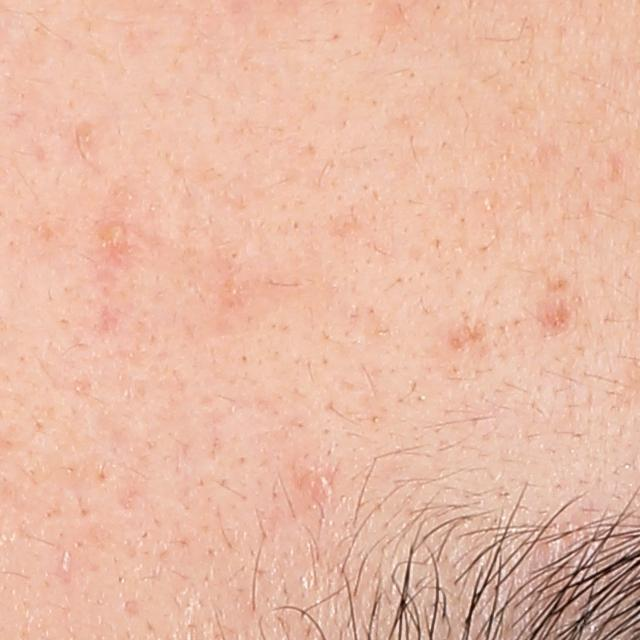comedo: (477, 192, 497, 214), (230, 249, 240, 260)
pustule: (101, 218, 128, 244)
